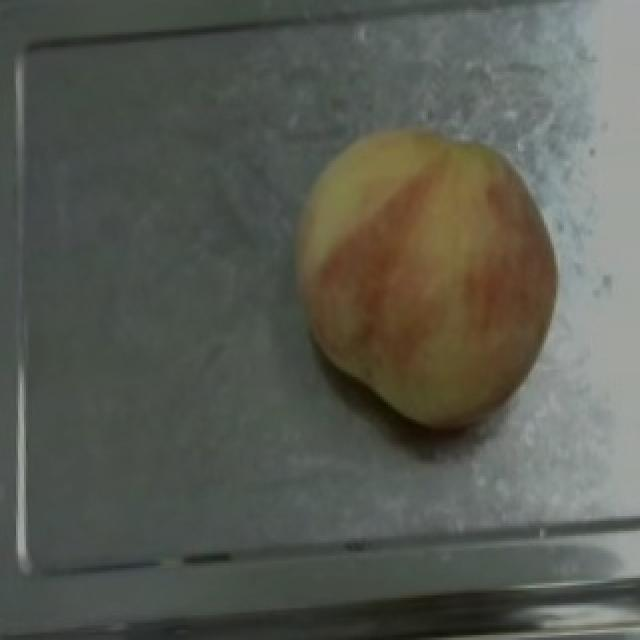Fruit: (274, 114, 582, 444)
